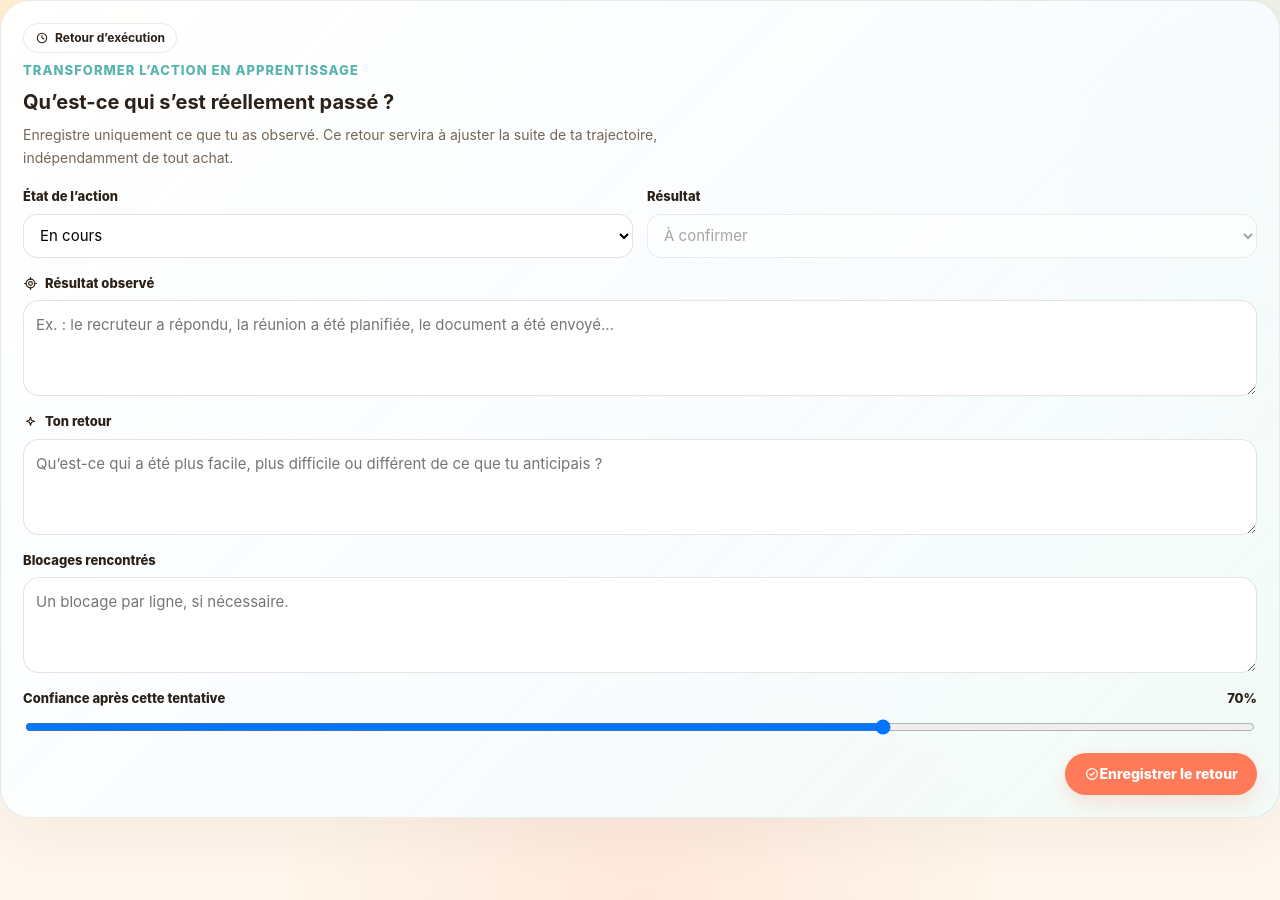
Test: ExecutionFeedbackForm › surfaces a non-technical submit error and keeps the form available
The width and height of the screenshot is (1280, 900).
Replace the text in the text box labelled "Résultat observé" with "Premier contact envoyé.". click: (640, 348)
box: [23,300,1257,396]
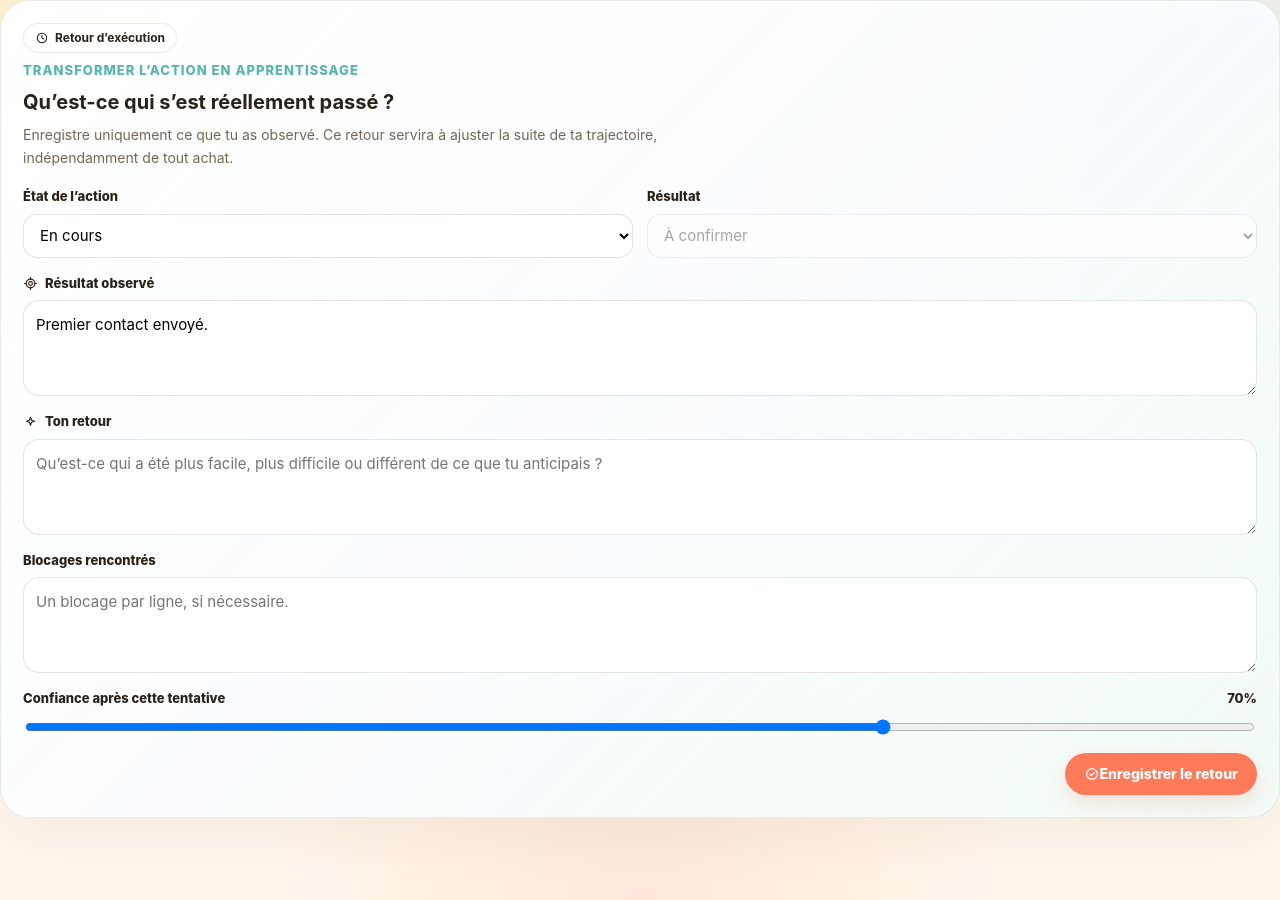
Click the button "Enregistrer le retour". click: (1161, 774)
box: [1065,753,1257,795]
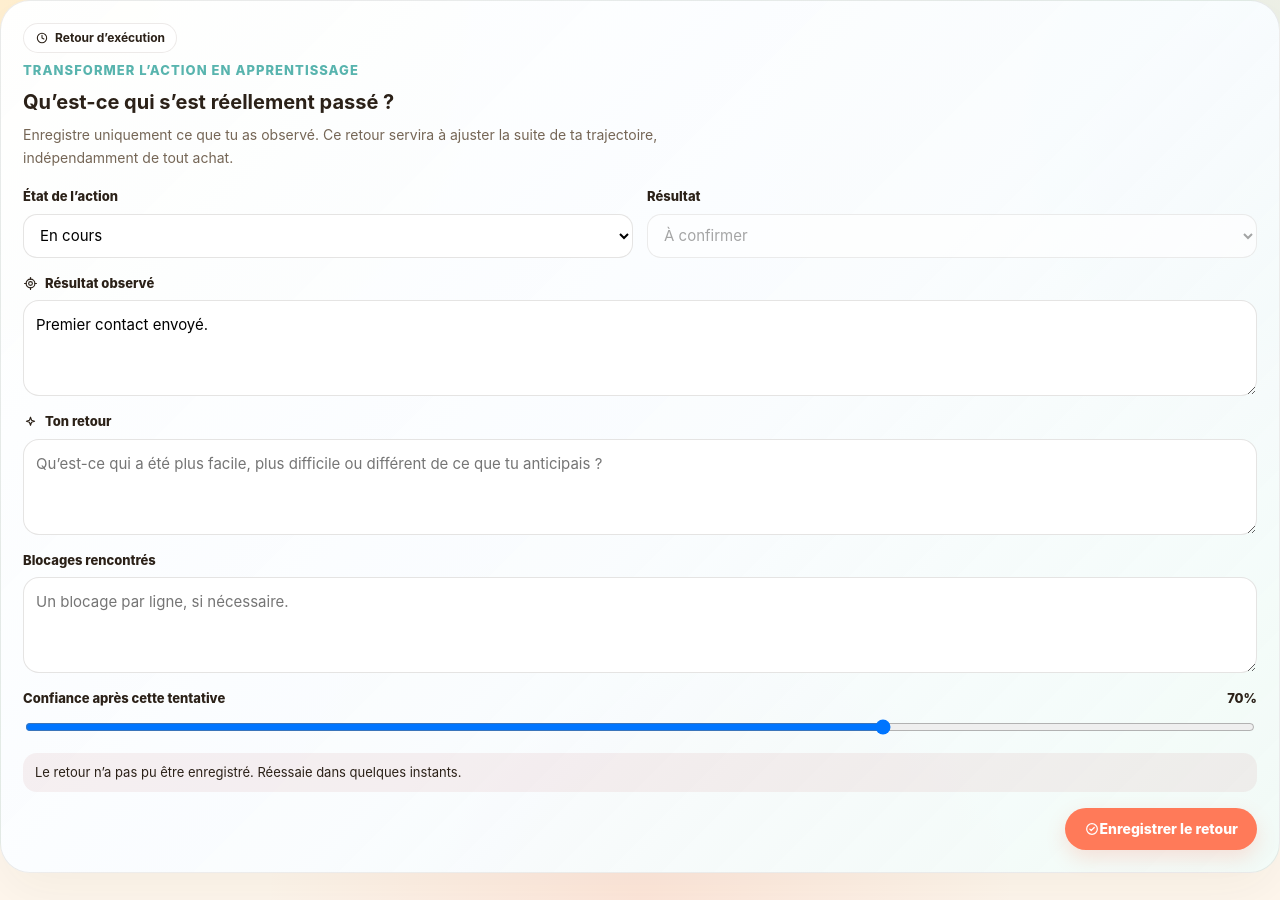
Expected: the button "Enregistrer le retour" is enabled, [1065,808,1257,850]
Expected: the message reads "Le retour n’a pas pu être enregistré. Réessaie dans quelques instants.", [35,764,462,780]
